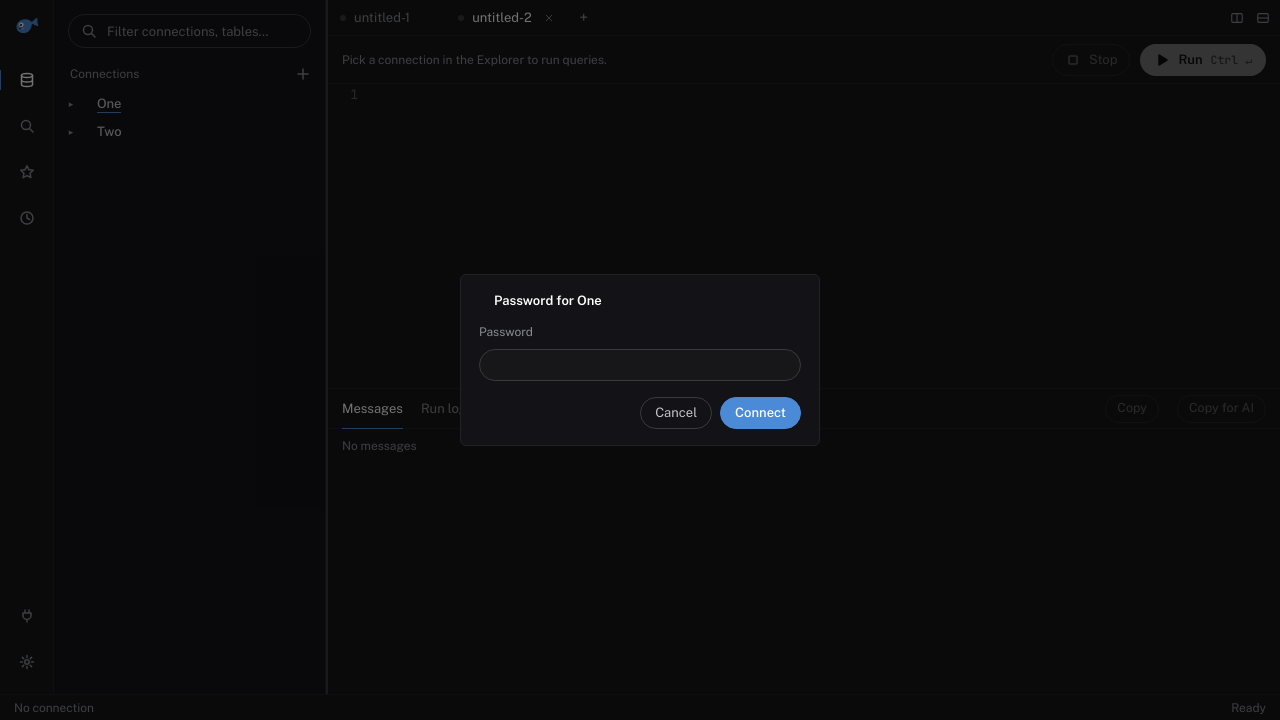
Test: the second queued password prompt starts with an empty field
Type "secret-for-one" into the password field labelled "Password" at (640, 365), box [479,349,801,381]
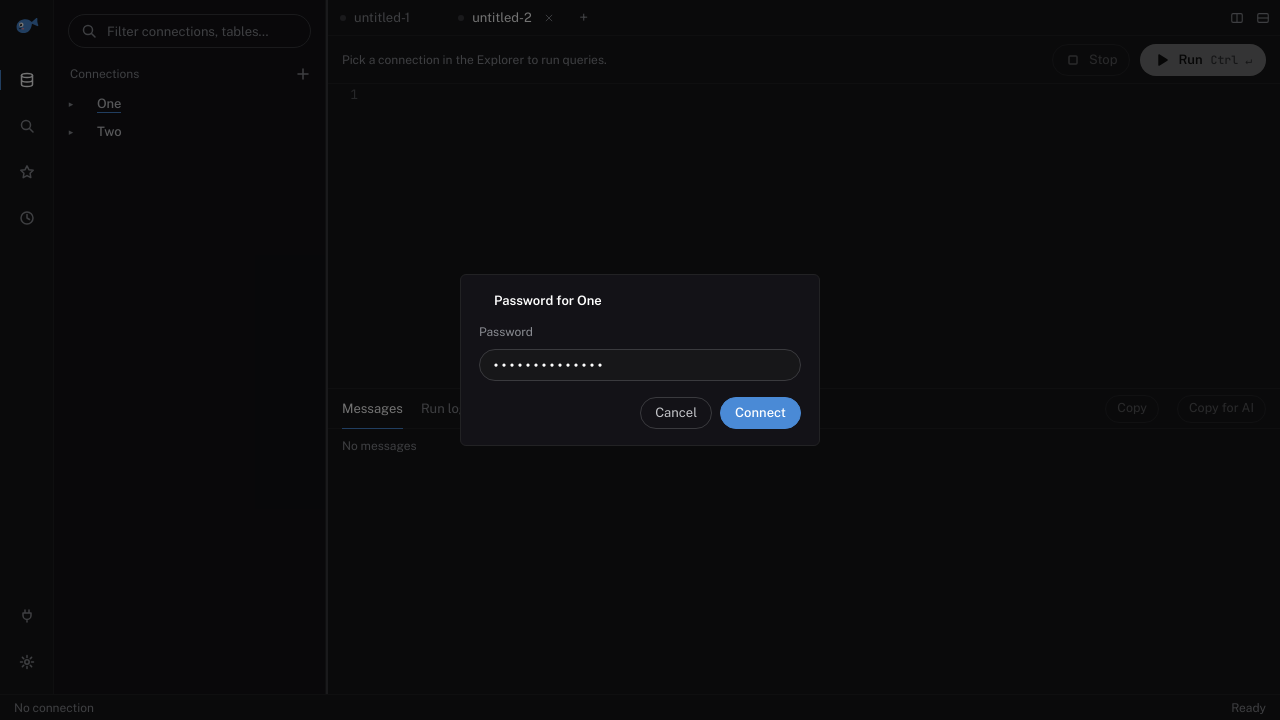
Click the button with class "ghost" showing "Cancel" at (676, 413), box [640,397,712,429]
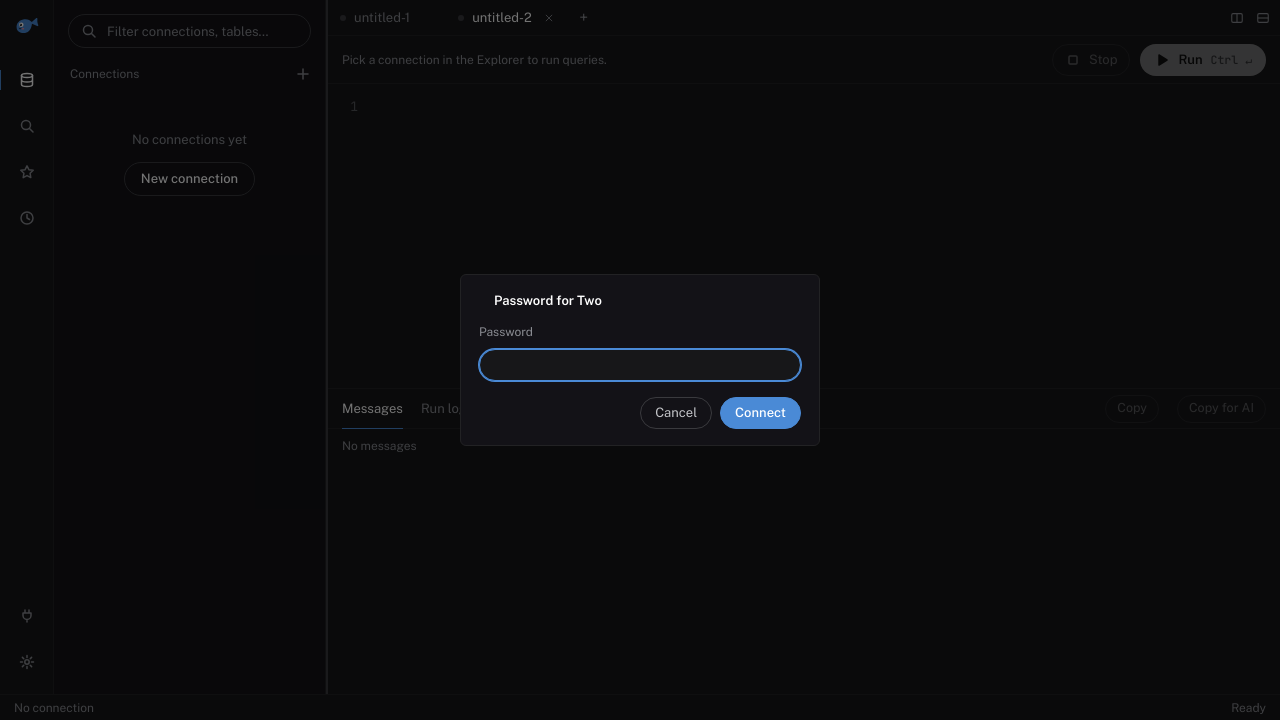
Now the element showing "Password for Two" is shown, box [494,293,602,308]
Now the password field labelled "Password" is empty, box [479,349,801,381]
